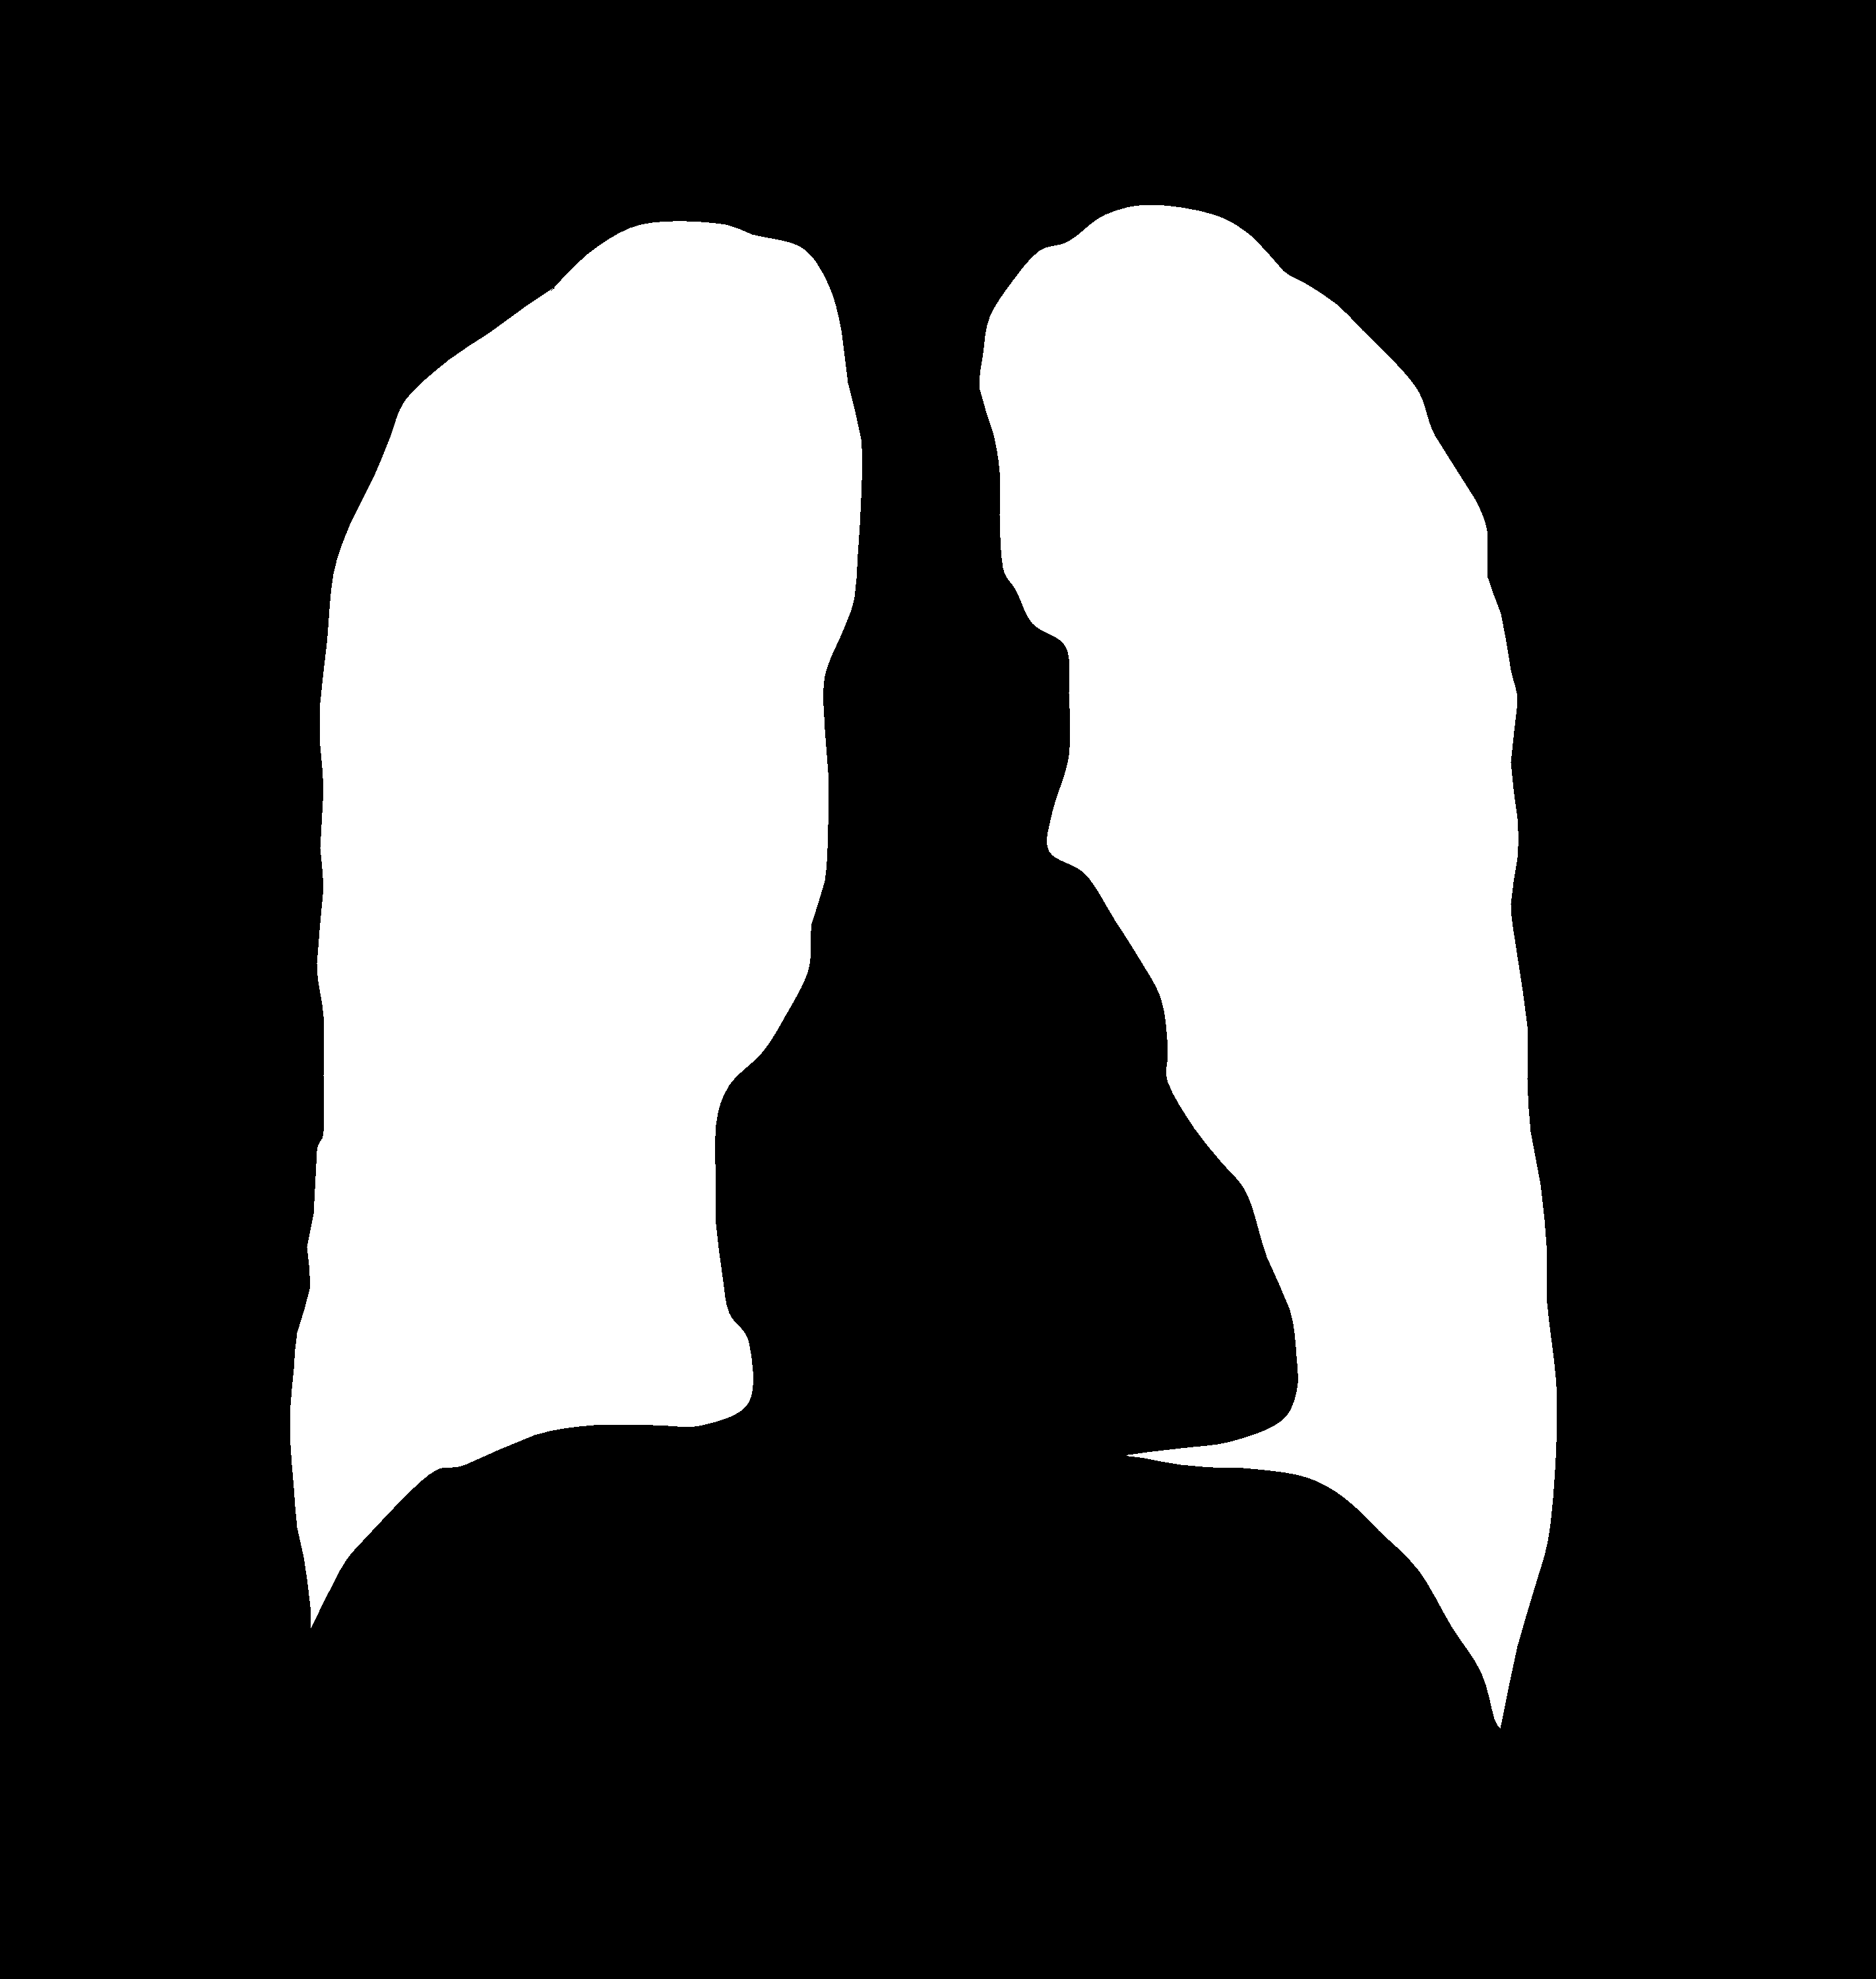heart: (714, 958, 1299, 1467)
left_lung: (284, 220, 862, 1624)
right_lung: (980, 205, 1555, 1732)
